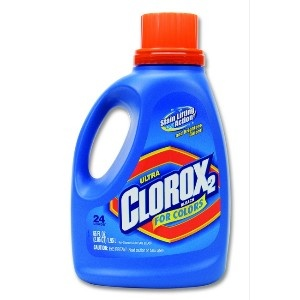grozi_14: (70, 11, 231, 290)
